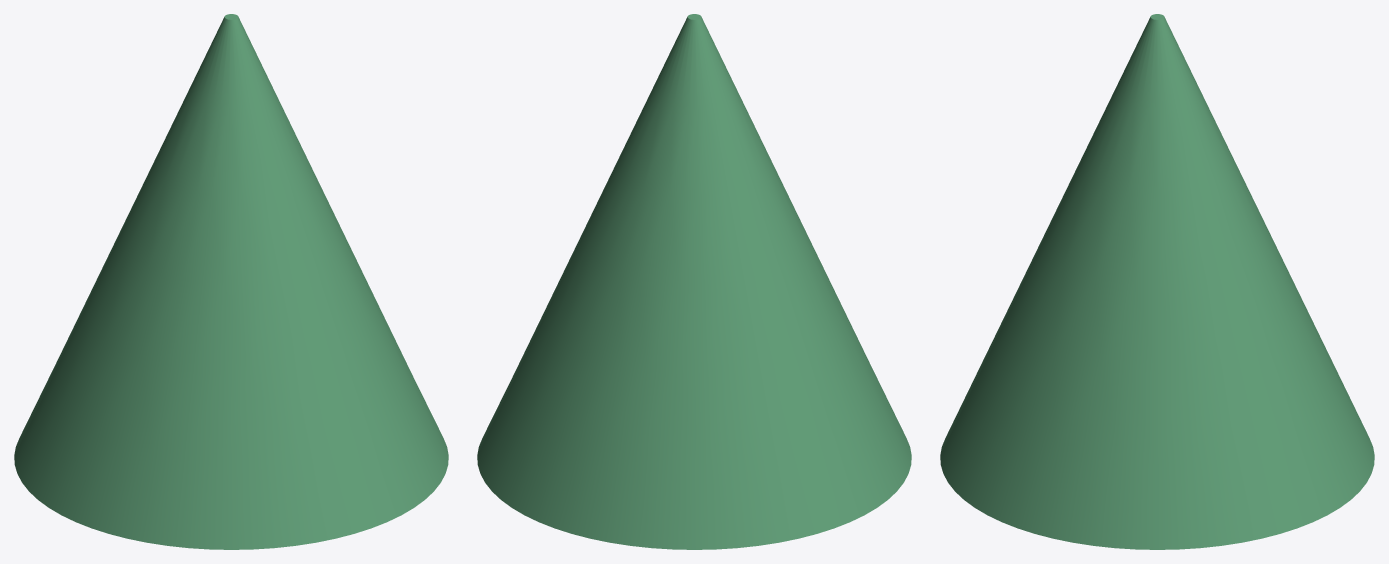
The model's file is step_01.glb.
The picture shows the model from 3 angles, left to right: view 1: azimuth 30°, elevation 25°; view 2: azimuth 150°, elevation 25°; view 3: azimuth 270°, elevation 25°; orthographic projection.
Visible parts, largest first — view 1: part__topmark, cone (green); view 2: part__topmark, cone (green); view 3: part__topmark, cone (green).
Part boxes in pixels (<box>): part__topmark, cone (green): <box>14,14,448,549</box>; part__topmark, cone (green): <box>477,14,911,549</box>; part__topmark, cone (green): <box>940,14,1374,549</box>.
Bounding box in the file's own units: 250 × 280 × 250.
